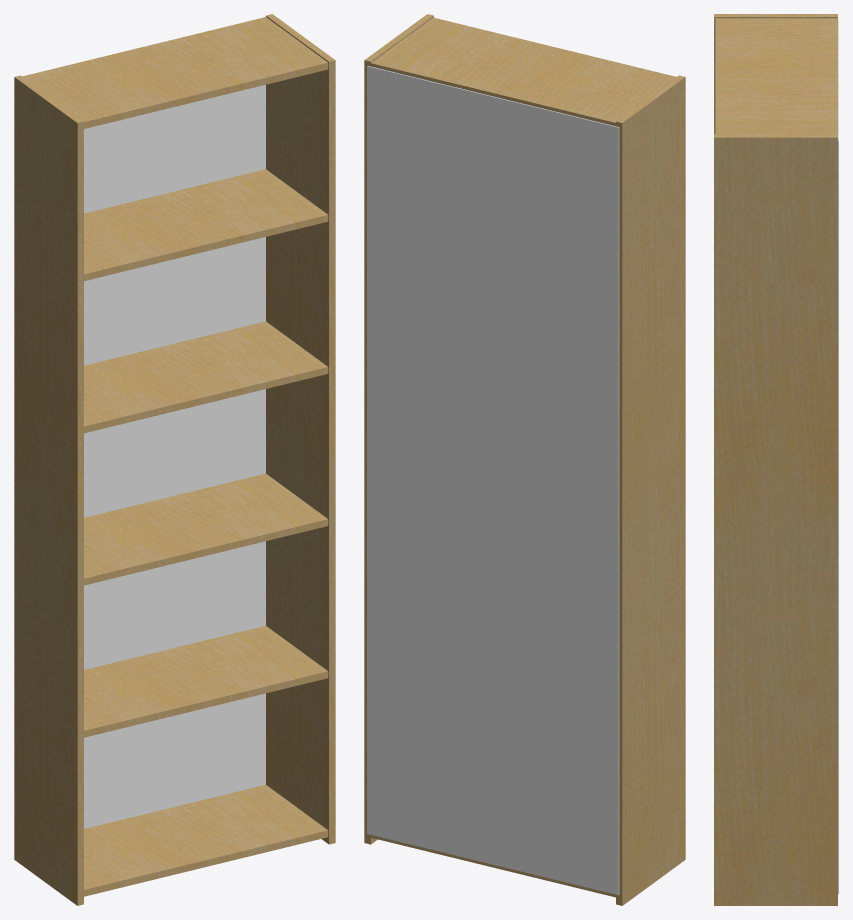
The picture shows the model from 3 angles, left to right: view 1: azimuth 30°, elevation 25°; view 2: azimuth 150°, elevation 25°; view 3: azimuth 270°, elevation 25°; orthographic projection.
Visible parts, largest first — view 1: Mesh5 back1 Model, Mesh2 laterale1 Model, Mesh9 laterale2 Model, Mesh6 ripiano4 Model, Mesh4 ripiano3 Model, Mesh7 ripiano5 Model, Mesh1 ripiano1 Model, Mesh8 ripiano6 Model, Mesh3 ripiano2 Model; view 2: Mesh5 back1 Model, Mesh2 laterale1 Model, Mesh6 ripiano4 Model, Mesh9 laterale2 Model, Mesh8 ripiano6 Model; view 3: Mesh9 laterale2 Model, Mesh6 ripiano4 Model, Mesh5 back1 Model, Mesh2 laterale1 Model.
Part boxes in pixels (left/top/right/bottom): Mesh5 back1 Model: left=84, top=84, right=265, bottom=828; Mesh2 laterale1 Model: left=14, top=75, right=83, bottom=905; Mesh9 laterale2 Model: left=266, top=14, right=335, bottom=844; Mesh6 ripiano4 Model: left=22, top=17, right=328, bottom=128; Mesh4 ripiano3 Model: left=84, top=473, right=328, bottom=585; Mesh7 ripiano5 Model: left=84, top=625, right=328, bottom=737; Mesh1 ripiano1 Model: left=84, top=169, right=328, bottom=280; Mesh8 ripiano6 Model: left=84, top=784, right=328, bottom=896; Mesh3 ripiano2 Model: left=84, top=321, right=328, bottom=433; Mesh5 back1 Model: left=367, top=66, right=619, bottom=895; Mesh2 laterale1 Model: left=616, top=75, right=685, bottom=905; Mesh6 ripiano4 Model: left=371, top=17, right=676, bottom=126; Mesh9 laterale2 Model: left=364, top=14, right=433, bottom=844; Mesh8 ripiano6 Model: left=371, top=835, right=615, bottom=897; Mesh9 laterale2 Model: left=714, top=134, right=837, bottom=905; Mesh6 ripiano4 Model: left=715, top=18, right=837, bottom=134; Mesh5 back1 Model: left=838, top=20, right=838, bottom=894; Mesh2 laterale1 Model: left=714, top=14, right=837, bottom=134.
Bounding box in the file's own units: 590 × 1710 × 252.
Materials: 2 (1 with a texture image).
